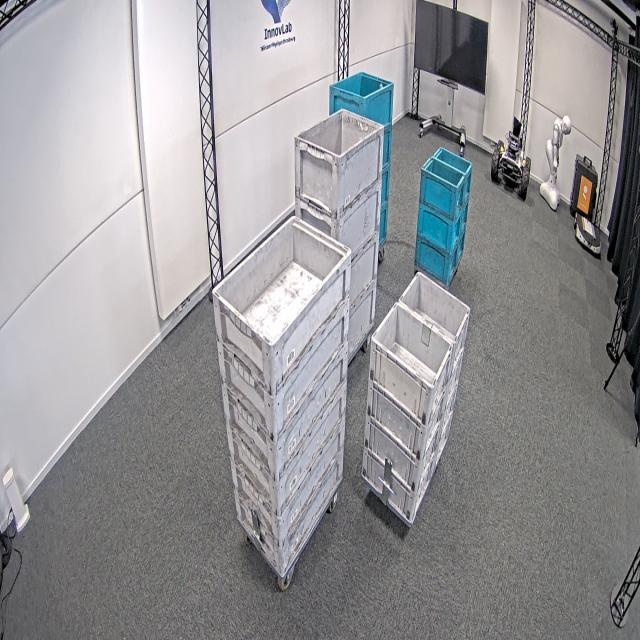Box3G: (211, 216, 353, 392), (236, 445, 345, 583), (224, 324, 347, 441), (224, 380, 345, 480), (228, 416, 343, 517)
Box4G: (296, 108, 386, 218), (292, 179, 382, 263), (345, 230, 378, 312), (347, 276, 376, 364)
Box8G: (371, 301, 453, 427), (400, 270, 472, 362), (366, 378, 443, 461), (363, 414, 439, 493), (362, 443, 432, 522), (447, 353, 464, 406)
BoxB4: (328, 72, 393, 131), (379, 126, 392, 171), (380, 163, 392, 206), (378, 202, 389, 248)
BoxB8: (421, 154, 464, 222), (432, 146, 472, 206), (417, 201, 460, 255), (413, 235, 458, 285), (459, 198, 468, 234), (458, 232, 467, 258)
